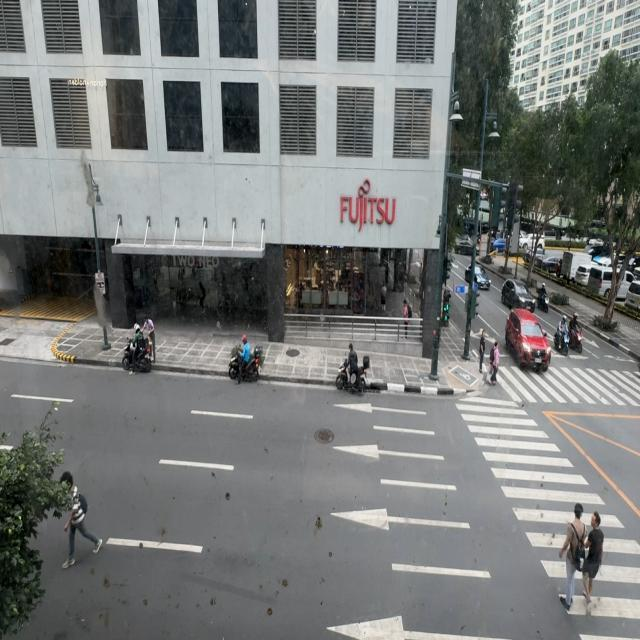jaywalking: (60, 473, 101, 565)
waiting: (490, 341, 500, 384), (478, 328, 486, 371)
